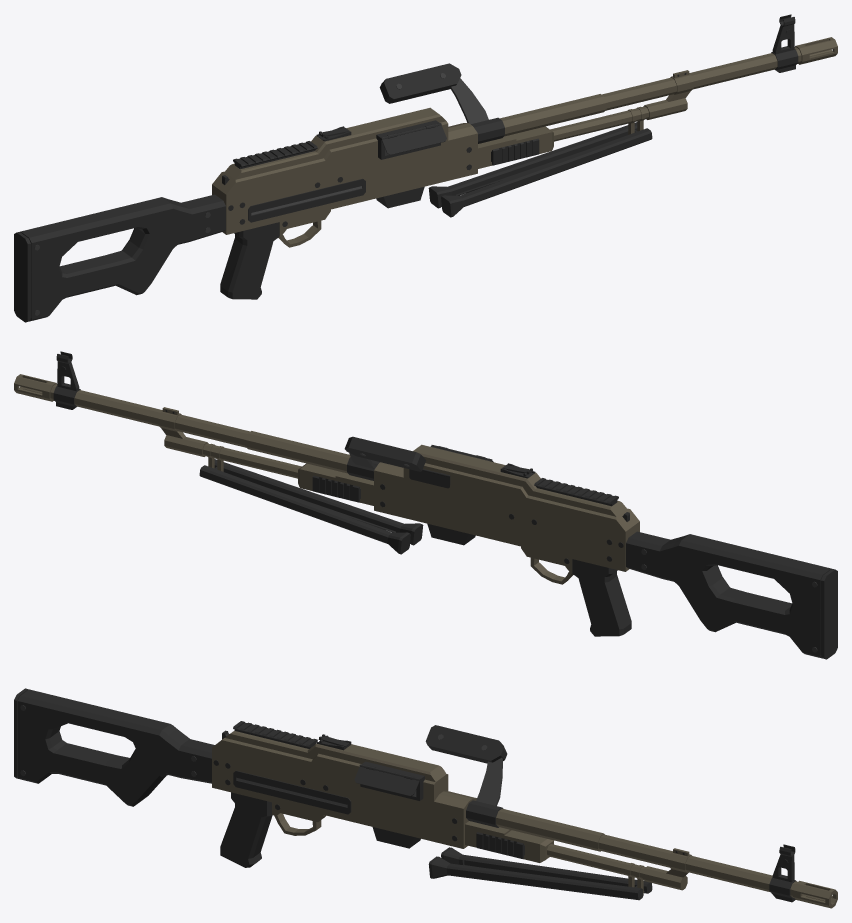
File: LMG3_06.fbx
3 views of the same model, one above another, from view 1: azimuth 30°, elevation 25°; view 2: azimuth 150°, elevation 25°; view 3: azimuth 330°, elevation 25° (orthographic).
Visible parts, largest first — view 1: LMG3_06; view 2: LMG3_06; view 3: LMG3_06.
Boxes of the visible parts, box(x1,y1,x2,y2) form: LMG3_06: box(14, 14, 837, 322); LMG3_06: box(14, 351, 837, 659); LMG3_06: box(14, 688, 837, 908).
Bounding box in the file's own units: 1.31 × 0.2463 × 0.1301.
